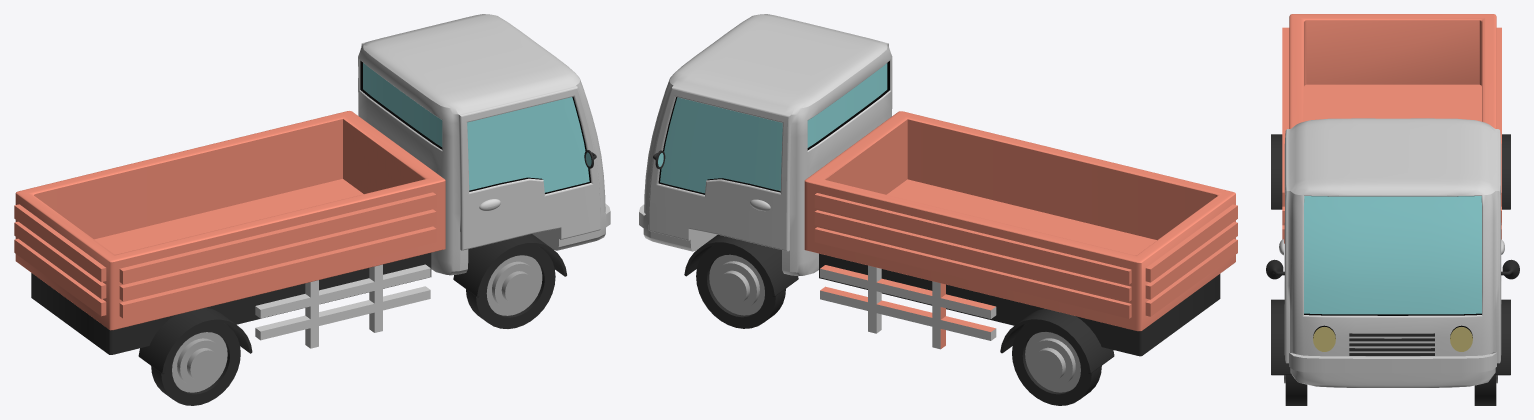
The model's file is Buss.fbx.
3 views of the same model, side by side, from view 1: azimuth 30°, elevation 25°; view 2: azimuth 150°, elevation 25°; view 3: azimuth 270°, elevation 25° (orthographic). The views are drawn at different scales.
Parts seen in each view (by area): view 1: Cube.235; view 2: Cube.235; view 3: Cube.235.
Boxes of the visible parts, <box> form: Cube.235: <box>14,14,610,405</box>; Cube.235: <box>639,14,1237,405</box>; Cube.235: <box>1266,14,1519,405</box>.
Size of the model in its own units: 616 by 268 by 245.
